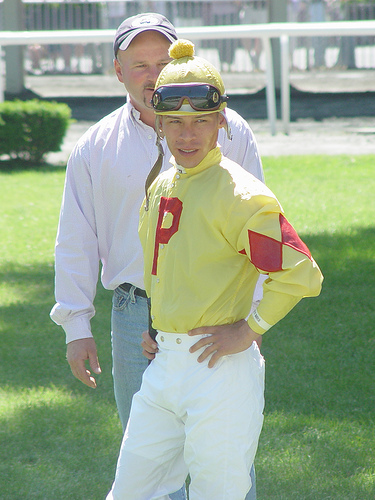without_mask: (155, 93, 227, 171), (114, 30, 186, 107)
